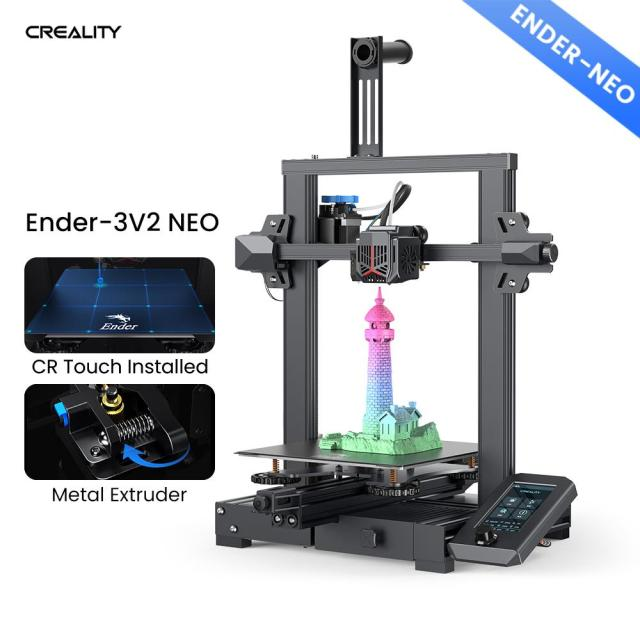Without deffect: (325, 284, 446, 465)
